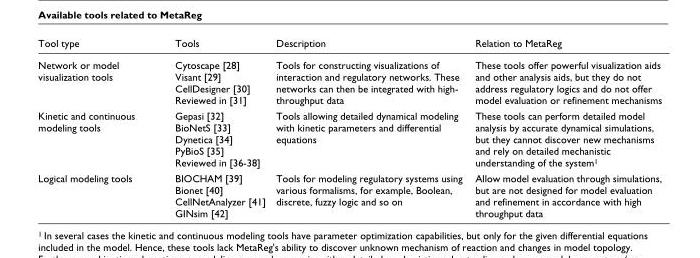table: (37, 36, 661, 218)
table column: (270, 36, 468, 218), (468, 36, 661, 218), (37, 36, 154, 218), (154, 36, 270, 218)
table column header: (37, 36, 661, 53)
table row: (37, 107, 661, 169), (37, 53, 661, 107), (37, 169, 661, 218), (37, 36, 661, 53)
